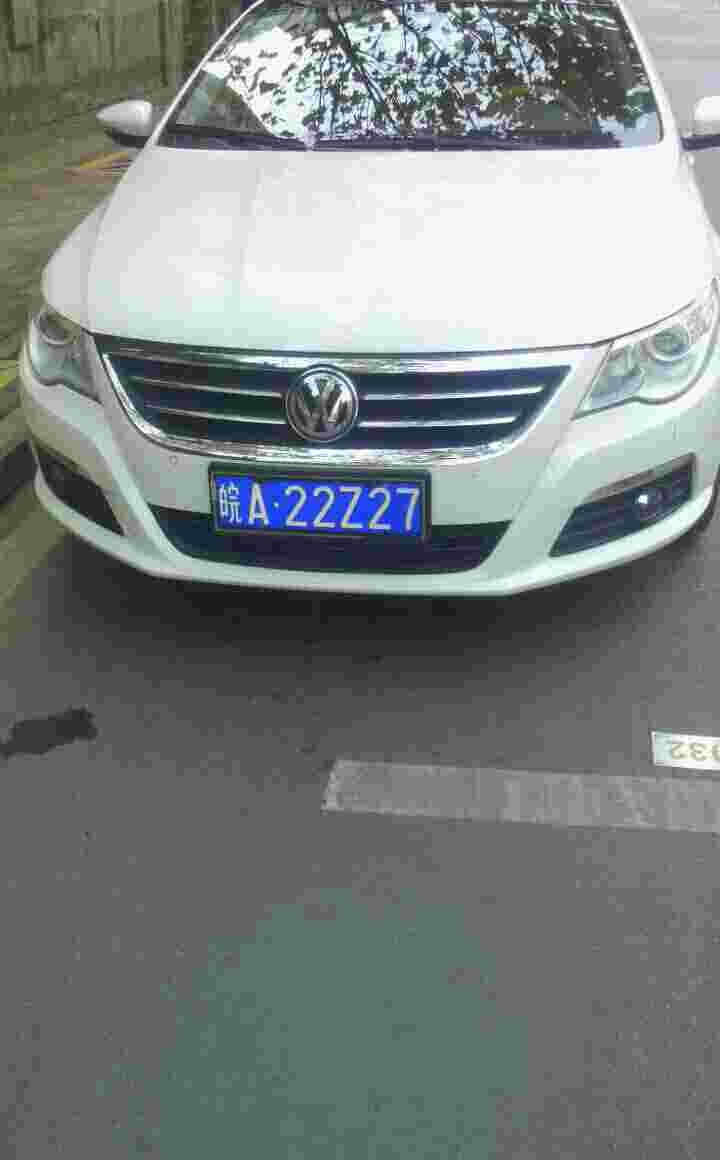license_plate: (211, 468, 423, 544)
